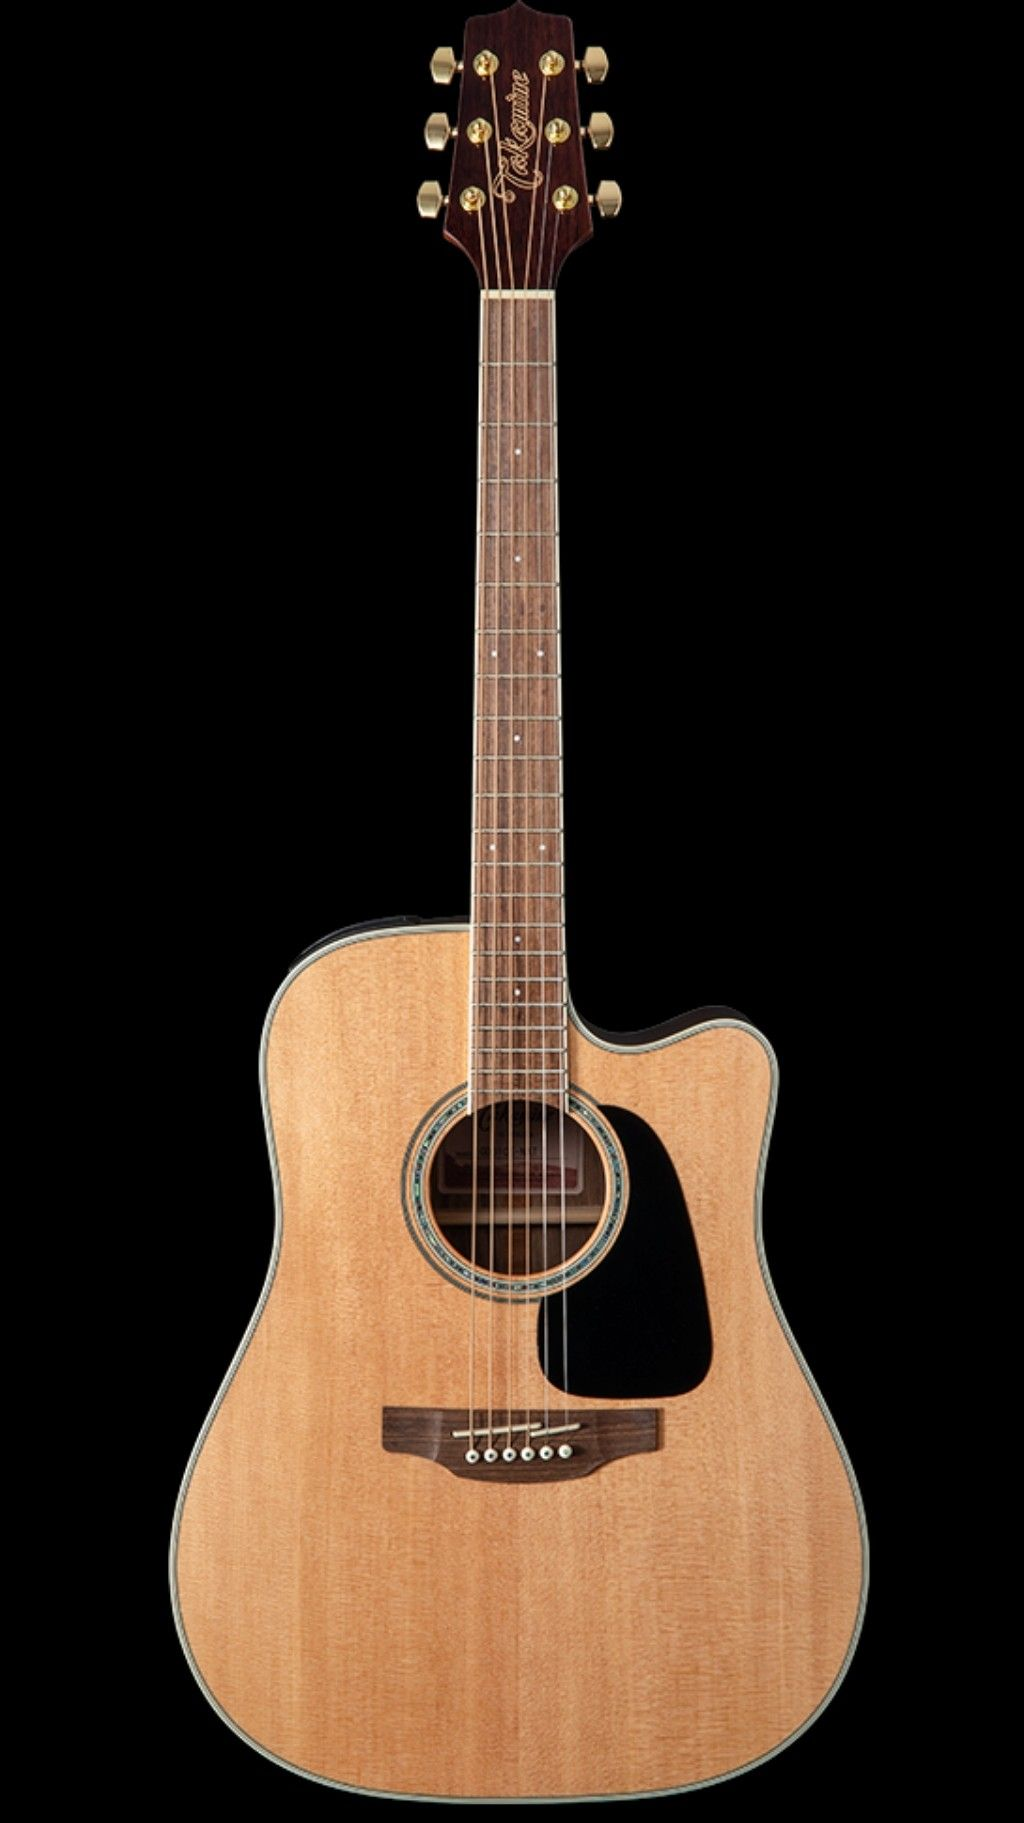guitar: (163, 0, 874, 1820)
